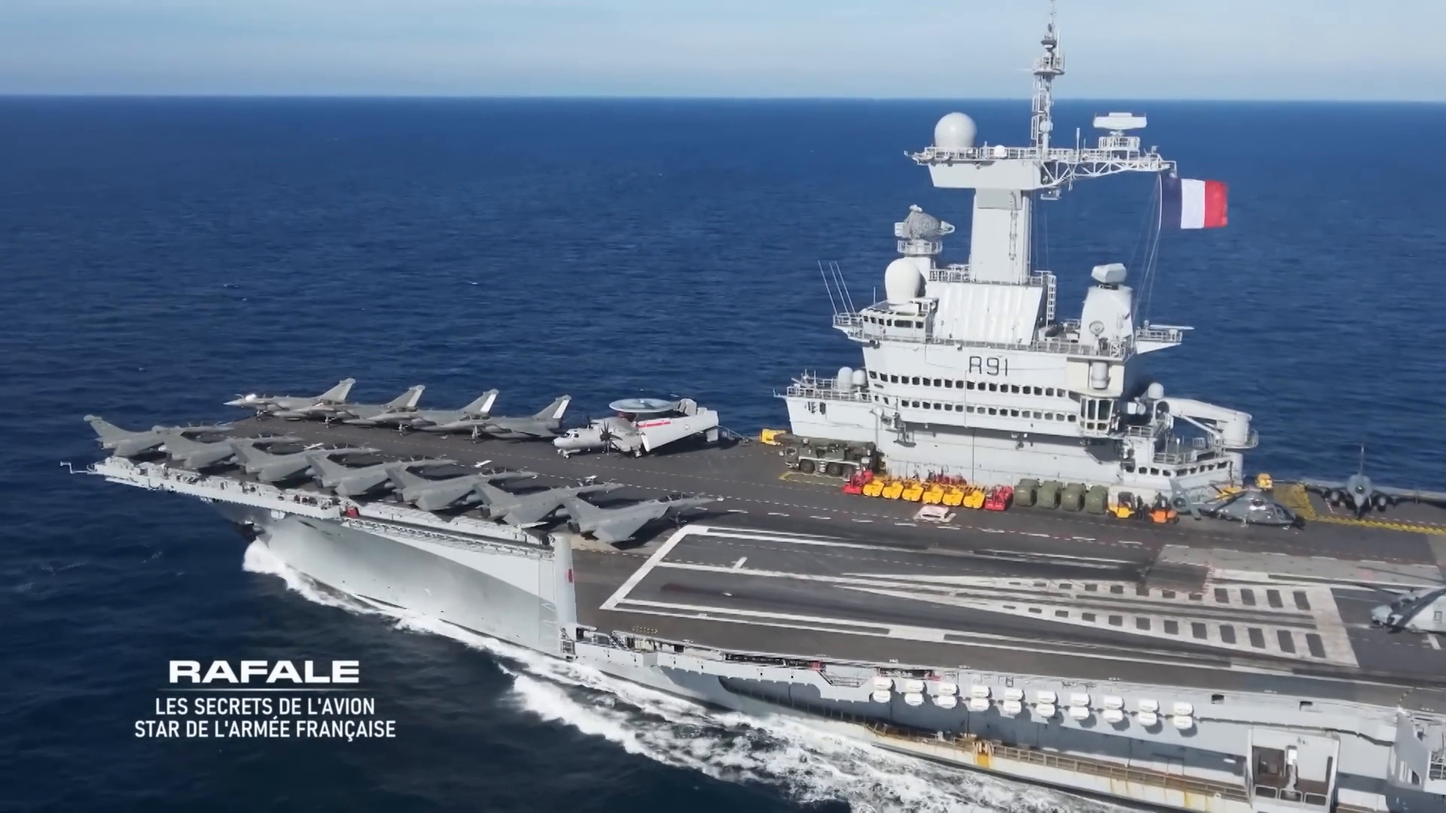Rafale: (1284, 442, 1424, 519), (554, 484, 726, 545), (456, 479, 627, 534), (382, 459, 541, 517), (361, 381, 502, 437), (75, 412, 235, 461), (303, 448, 459, 498), (229, 435, 385, 484), (218, 371, 363, 422), (156, 426, 306, 474), (437, 393, 575, 443), (292, 384, 431, 431)
